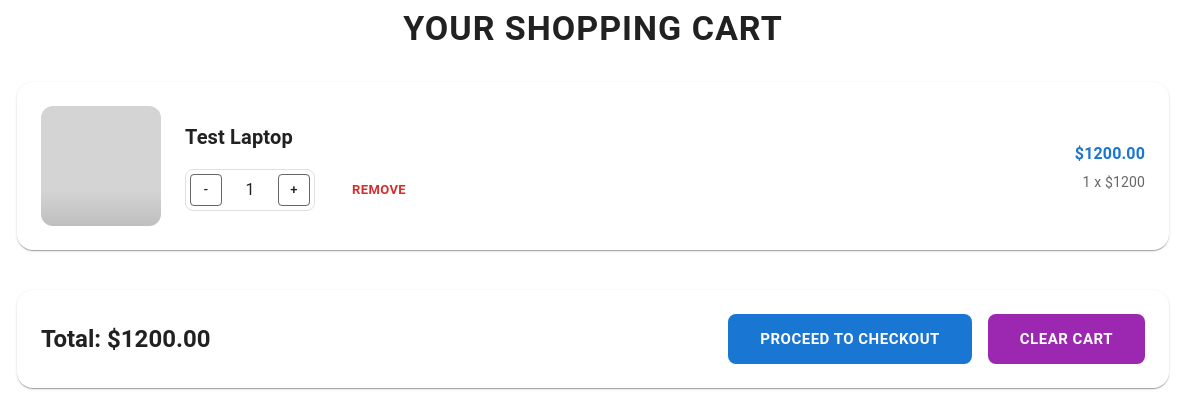
Test: CartPage › increments the quantity through the API
The image size is (1187, 407).
Expected: the heading "Test Laptop" is shown, [185,125,293,149]
Click the button "+" at (294,190), box [278,174,310,206]
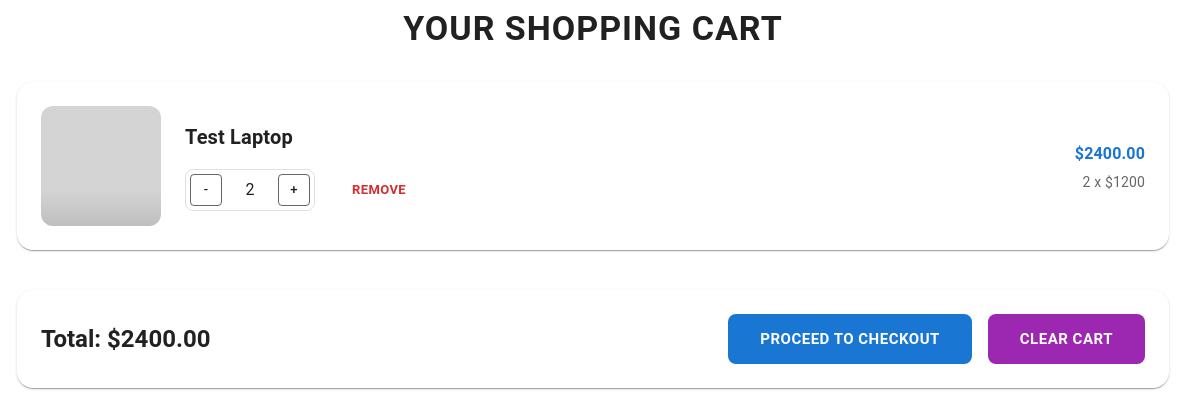
Now the heading "Total: $2400.00" is shown, box [41,323,210,355]
